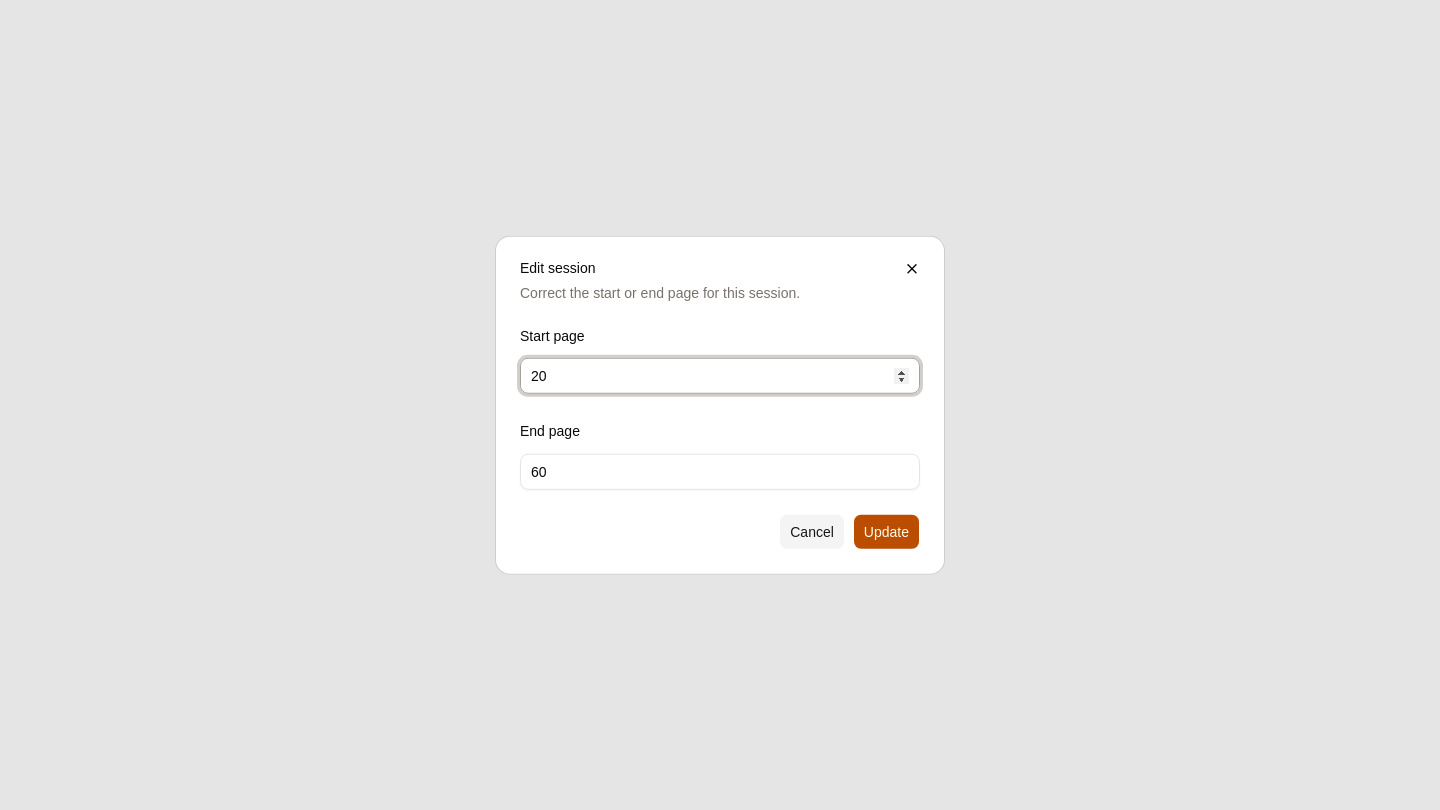
Test case: EditReadingSessionDialog › shows server error message on mutation failure
The width and height of the screenshot is (1440, 810).
Step 1. Click the button "Update" → (886, 531), box [853, 513, 920, 549]
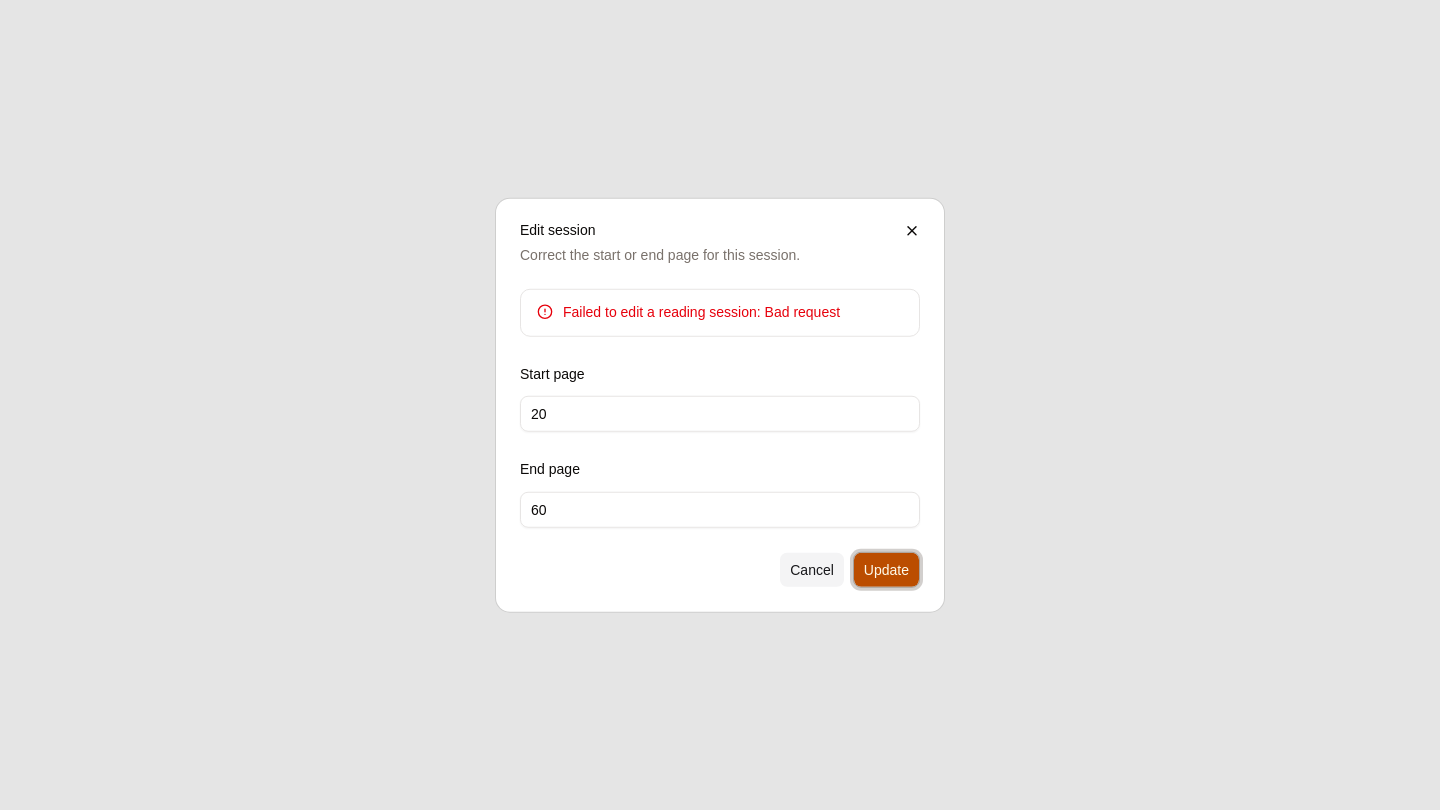
Expected: the text "Failed to edit a reading session: Bad request" is shown, [563, 304, 840, 320]
